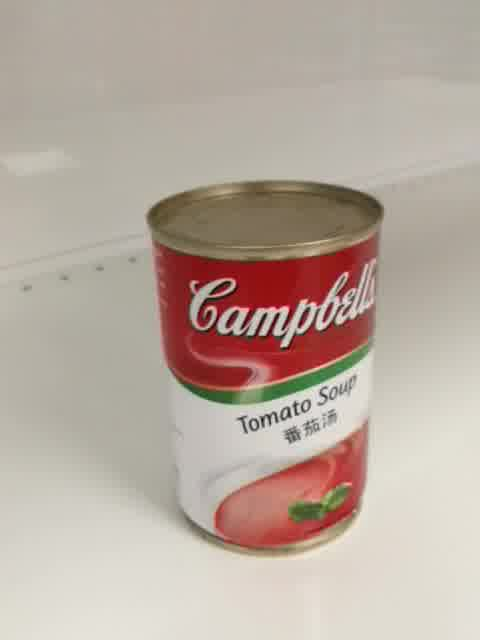tomatosoup: (145, 177, 387, 556)
